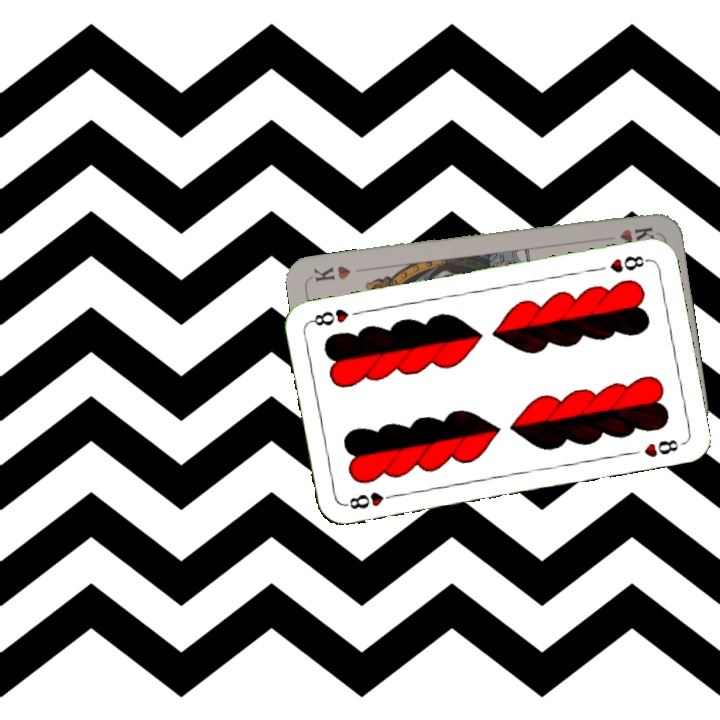H8: (341, 488, 400, 512), (605, 251, 651, 276)
HK: (616, 223, 657, 244)
